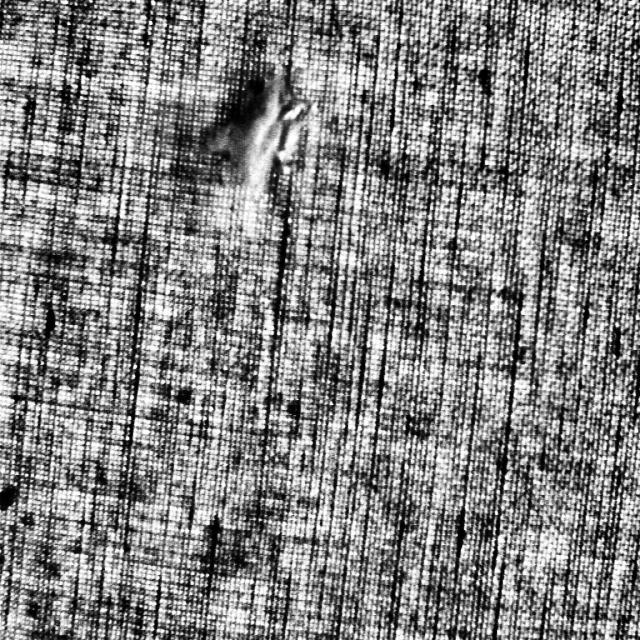Stitch: (202, 66, 310, 195)
